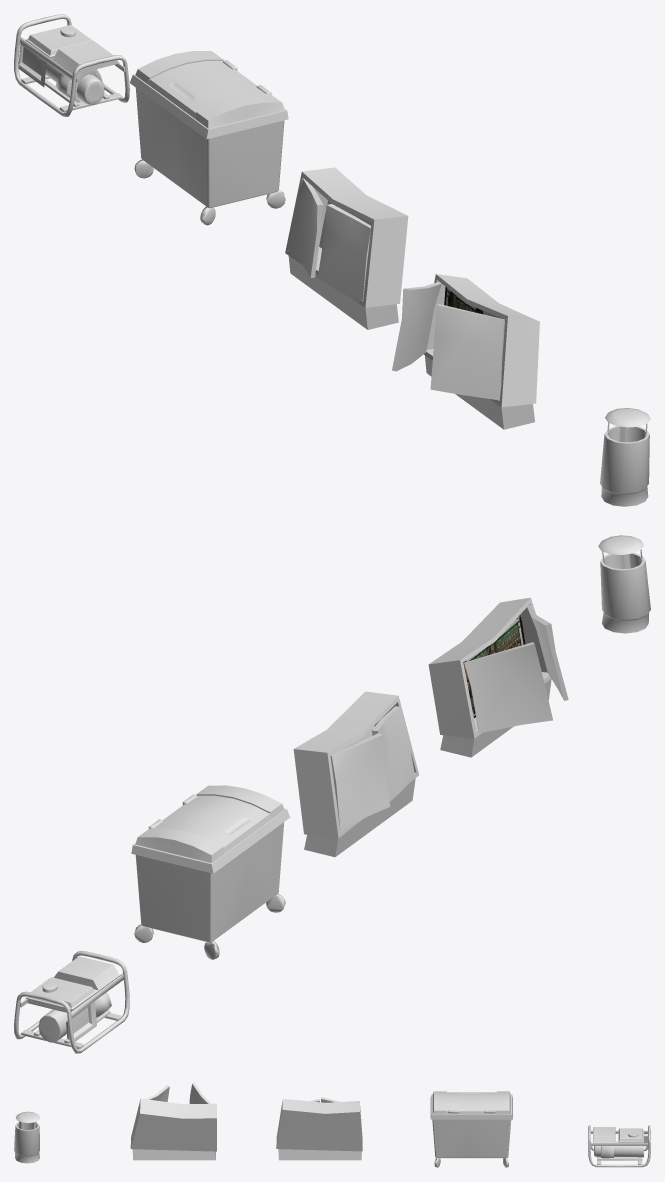
The model's file is usable_props.fbx.
3 views of the same model, one above another, from view 1: azimuth 30°, elevation 25°; view 2: azimuth 150°, elevation 25°; view 3: azimuth 270°, elevation 25° (orthographic). The views are drawn at different scales.
Visible parts, largest first — view 1: thrash_big, elec_cabin.004, elec_cabin.001, power_generator, thrash_cylinder; view 2: thrash_big, elec_cabin.004, elec_cabin.001, power_generator, thrash_cylinder; view 3: thrash_big, elec_cabin.004, elec_cabin.001, power_generator, thrash_cylinder.
Part boxes in pixels (left/top/right/bottom): thrash_big: left=130, top=51, right=288, bottom=225; elec_cabin.004: left=392, top=274, right=539, bottom=429; elec_cabin.001: left=285, top=167, right=408, bottom=329; power_generator: left=14, top=14, right=129, bottom=116; thrash_cylinder: left=600, top=408, right=650, bottom=506; thrash_big: left=131, top=785, right=290, bottom=959; elec_cabin.004: left=428, top=597, right=568, bottom=757; elec_cabin.001: left=293, top=691, right=418, bottom=857; power_generator: left=14, top=950, right=129, bottom=1053; thrash_cylinder: left=598, top=535, right=650, bottom=633; thrash_big: left=430, top=1091, right=512, bottom=1167; elec_cabin.004: left=130, top=1082, right=216, bottom=1160; elec_cabin.001: left=276, top=1097, right=362, bottom=1160; power_generator: left=588, top=1125, right=650, bottom=1167; thrash_cylinder: left=14, top=1111, right=40, bottom=1163.
Size of the model in its own units: 103 by 92.16 by 862.
